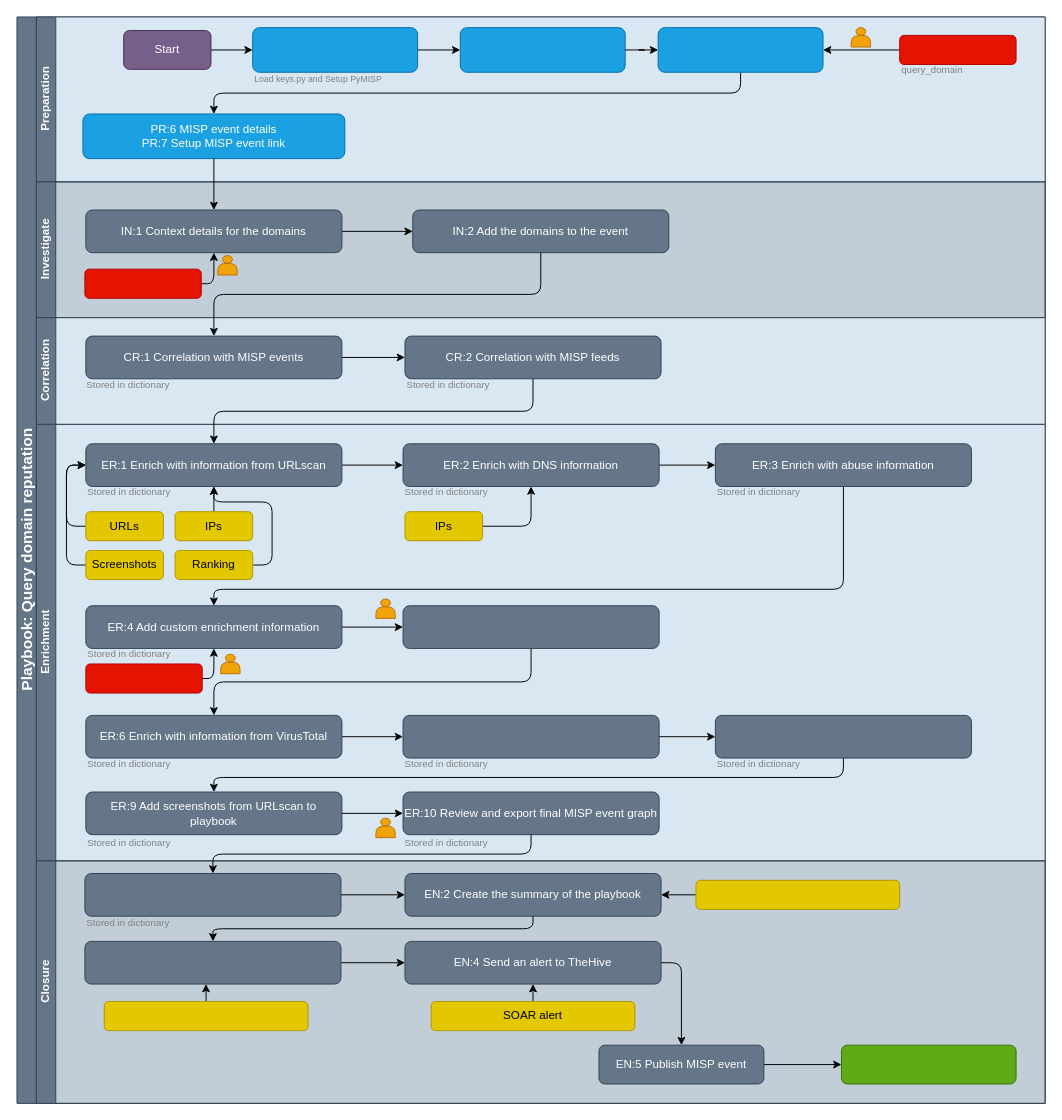
Image size: 1062x1120. Some labels were removed from this diagram. Here are the shapes that lost their labels. From the top down, the centre of each, then its label:
At (335,49): "PR:1 Initialise environment PR:2 Verify MISP modules".
At (542,49): "PR:3 Load helper functions PR:4 Set helper variables".
At (740,49): "PR:5 What are you searching for?".
At (957,49): "Domains".
At (142,283): "Tags".
At (530,626): "ER:5 Review the current MISP event graph".
At (143,678): "Attribute".
At (530,736): "ER:7 Enrich with information from Shodan".
At (842,736): "ER:8 Enrich with information from URLhaus".
At (212,894): "EN:1 MISP indicators".
At (797,894): "Result in Markdown in playbook".
At (212,962): "EN:3 Send a summary to Mattermost".
At (205,1016): "Chat message".
At (928,1064): "EN:6 End of the playbook".
